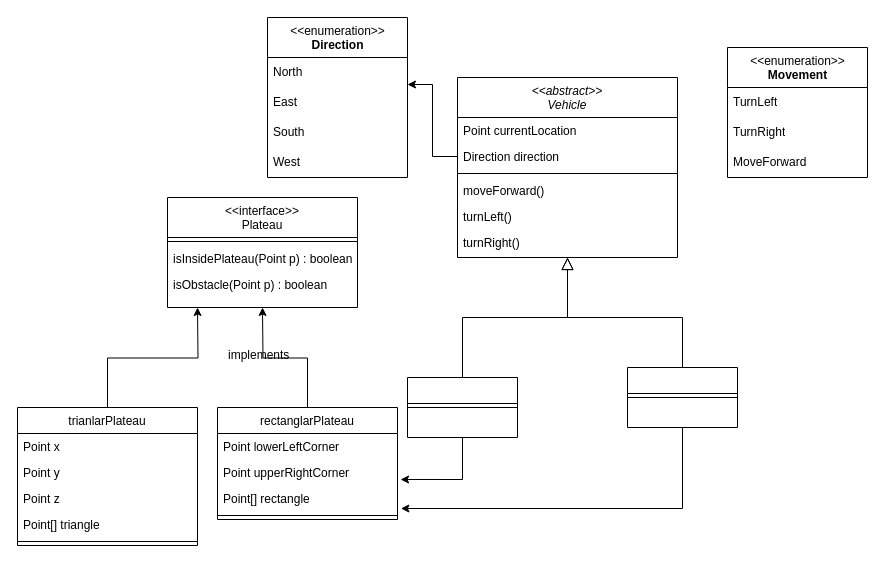
Image size: 885x563. Some labels were removed from this diagram. Each missing label, with the centre of its shape:
"Car" goes at pixel 682 397.
"Rover" goes at pixel 462 407.
